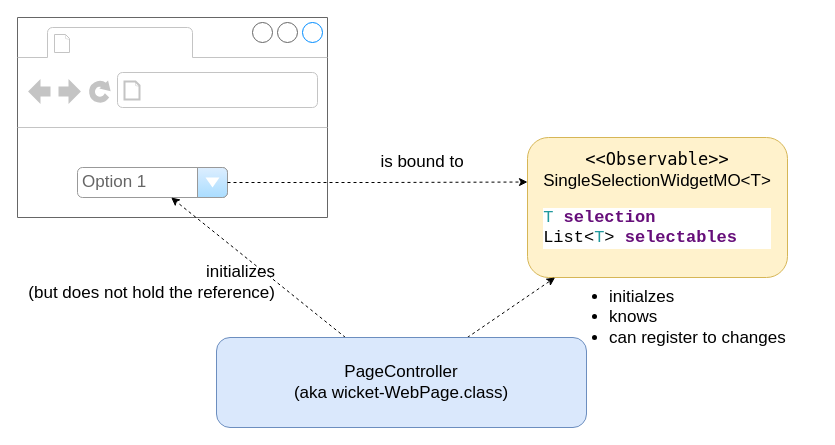
This 835x445 diagram has some shape labels left out. Here are the shapes that lost their labels. From the top down, the box of each, then its label:
(76, 28, 188, 56): Page 1
(146, 76, 398, 104): https://www.draw.io
